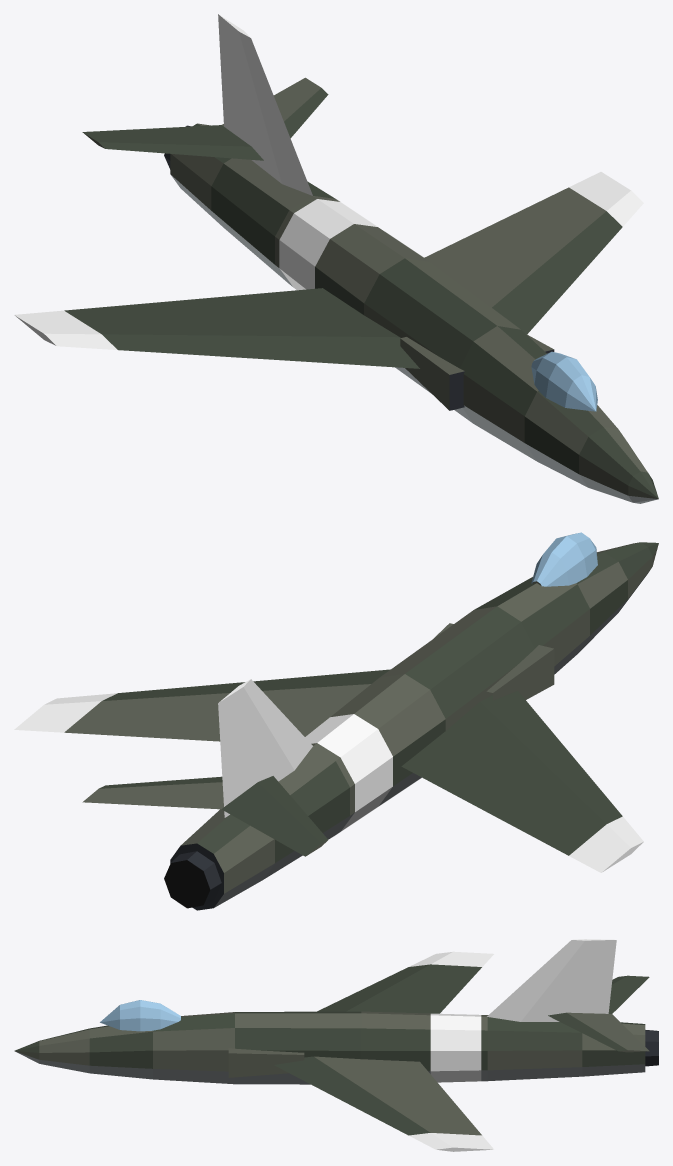
The model's file is hunter_f6_lod.glb.
3 renders of one model, top to bottom at view 1: azimuth 30°, elevation 25°; view 2: azimuth 150°, elevation 25°; view 3: azimuth 270°, elevation 25°, orthographic. The views are drawn at different scales.
Parts seen in each view (by area): view 1: body; view 2: body; view 3: body.
Boxes of the visible parts, left/top/right/bottom form: body: left=14, top=14, right=658, bottom=503; body: left=14, top=532, right=658, bottom=910; body: left=14, top=939, right=658, bottom=1151.
Size of the model in its own units: 10.26 by 3.5 by 14.28.
